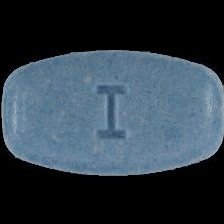60687-168: (0, 0, 224, 224)
